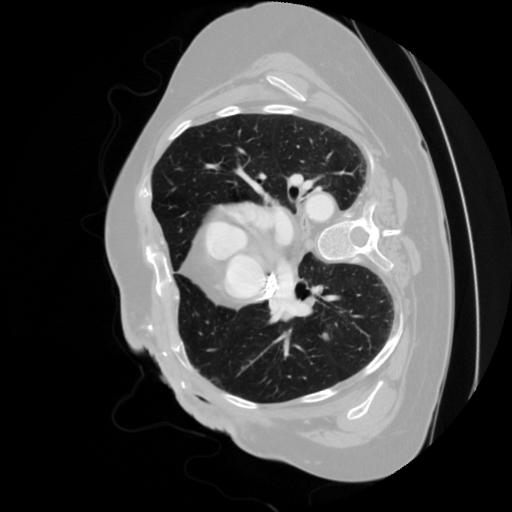nodule: (318, 329, 334, 345)
